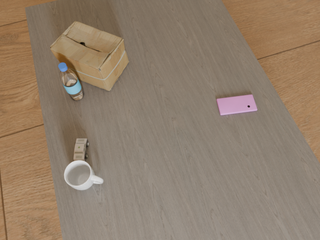bottle: (59, 63, 84, 100)
box: (50, 21, 129, 91)
cup: (64, 160, 103, 190)
phone: (217, 95, 257, 115)
toy_car: (74, 139, 89, 161)
